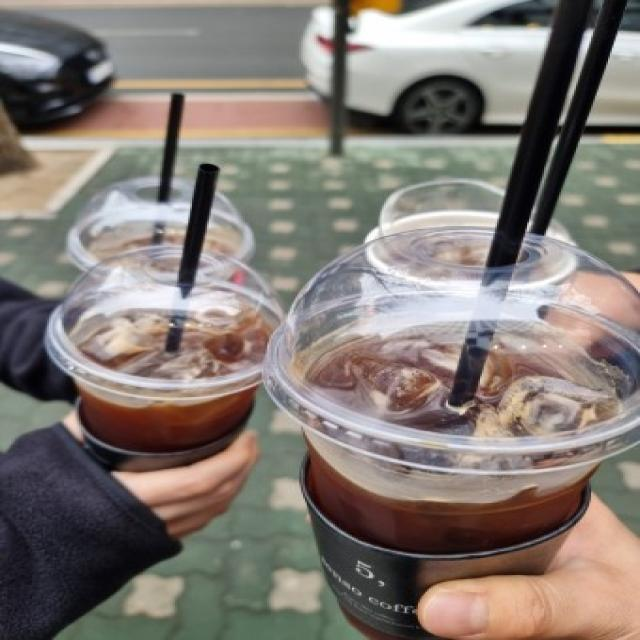cup: (273, 232, 639, 640), (38, 249, 280, 476)
